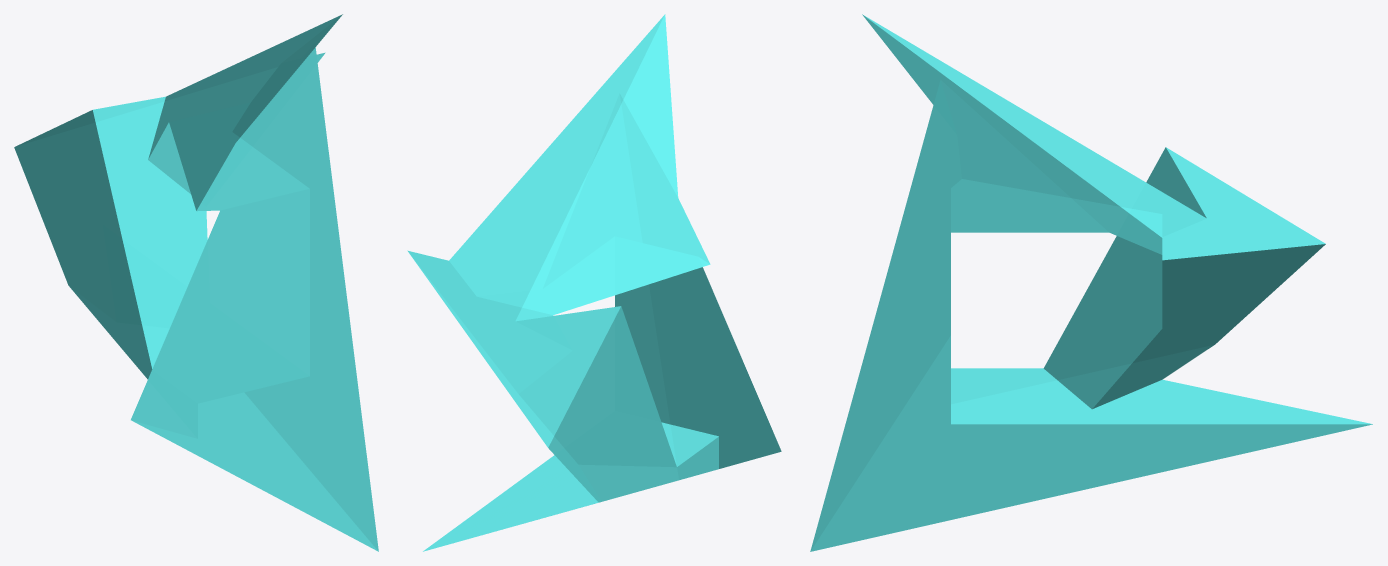
Rendered from HexagonalToroid_M.obj.
The picture shows the model from 3 angles, left to right: view 1: azimuth 30°, elevation 25°; view 2: azimuth 150°, elevation 25°; view 3: azimuth 270°, elevation 25°; orthographic projection. The views are drawn at different scales.
Bounding box in the file's own units: 20 × 33.39 × 32.
